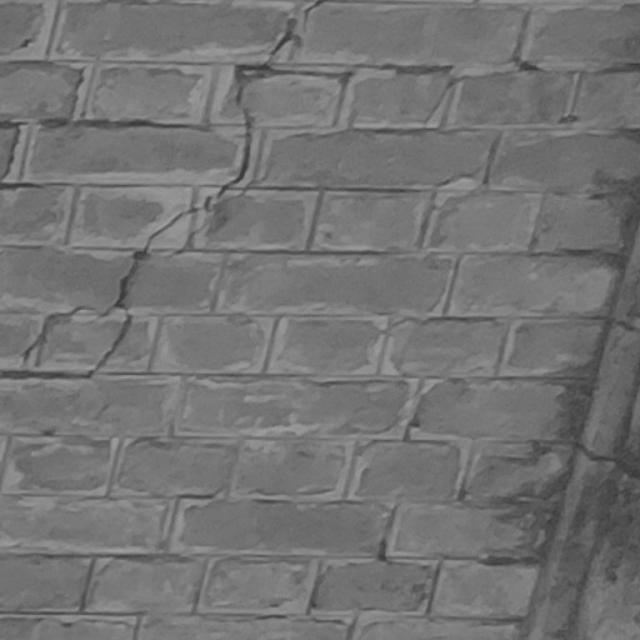crack: (2, 1, 320, 379)
